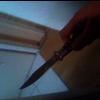melee: (18, 1, 100, 90)
